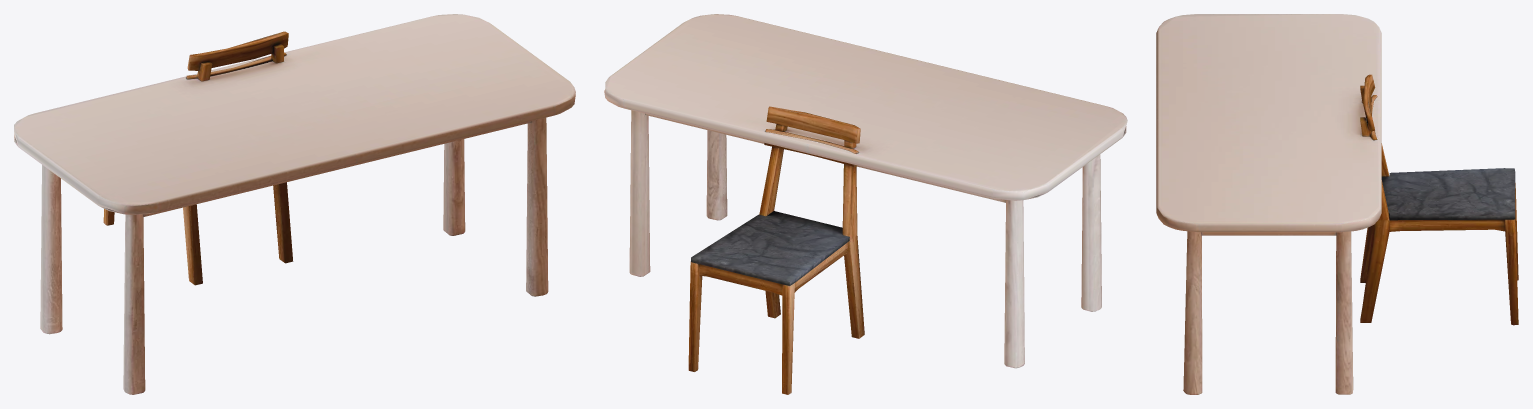
File: table-1k.glb
The picture shows the model from 3 angles, left to right: view 1: azimuth 30°, elevation 25°; view 2: azimuth 150°, elevation 25°; view 3: azimuth 270°, elevation 25°; orthographic projection. The views are drawn at different scales.
Bounding box in the file's own units: 31.5 × 14.45 × 22.92.
Materials: 1 (1 with a texture image).
